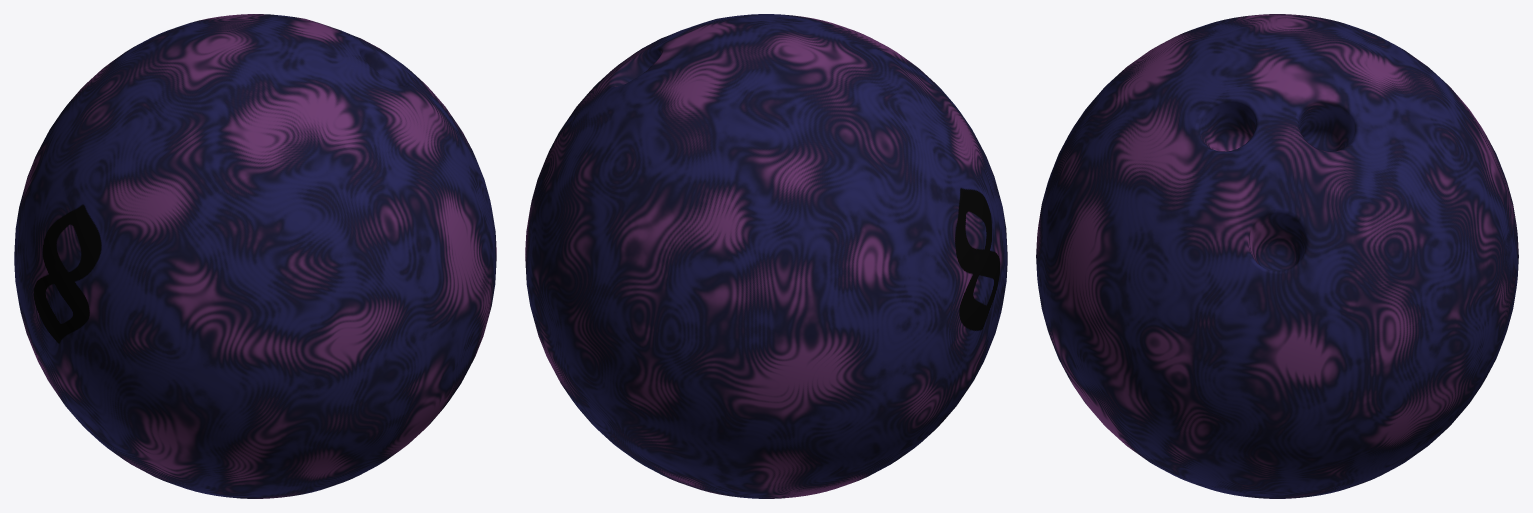
Rendered from bowling_ball2.glb.
3 views of the same model, side by side, from view 1: azimuth 30°, elevation 25°; view 2: azimuth 150°, elevation 25°; view 3: azimuth 270°, elevation 25° (orthographic).
Visible parts, largest first — view 1: bowling ball; view 2: bowling ball; view 3: bowling ball.
Part boxes in pixels (x1,y1,x2,y2): bowling ball: (14, 14, 496, 498); bowling ball: (525, 14, 1007, 498); bowling ball: (1036, 14, 1518, 498).
Bounding box in the file's own units: 0.2272 × 0.2296 × 0.2272.
Materials: 1 (1 with a texture image).
